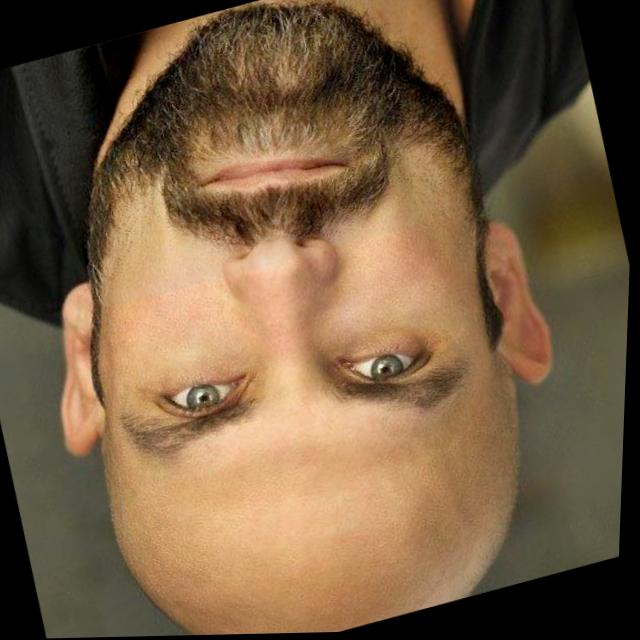beard: (87, 2, 478, 275)
